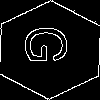G: (25, 25, 78, 65)
